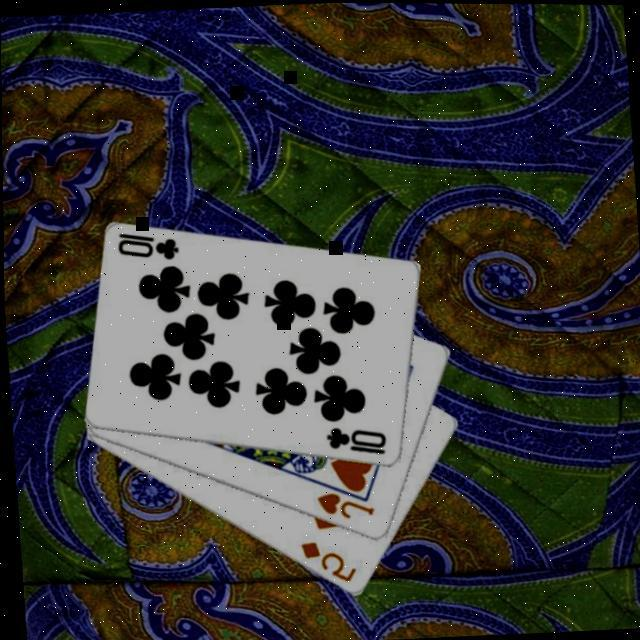10C: (111, 229, 180, 266), (320, 423, 388, 460)
5D: (294, 538, 358, 589)
JH: (310, 488, 375, 524)
